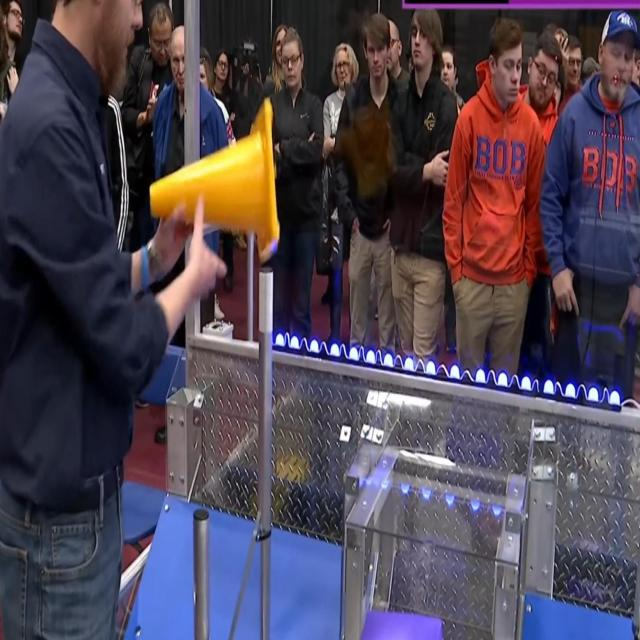frc_cone: (148, 97, 279, 263)
frc_cube: (357, 608, 448, 640)
